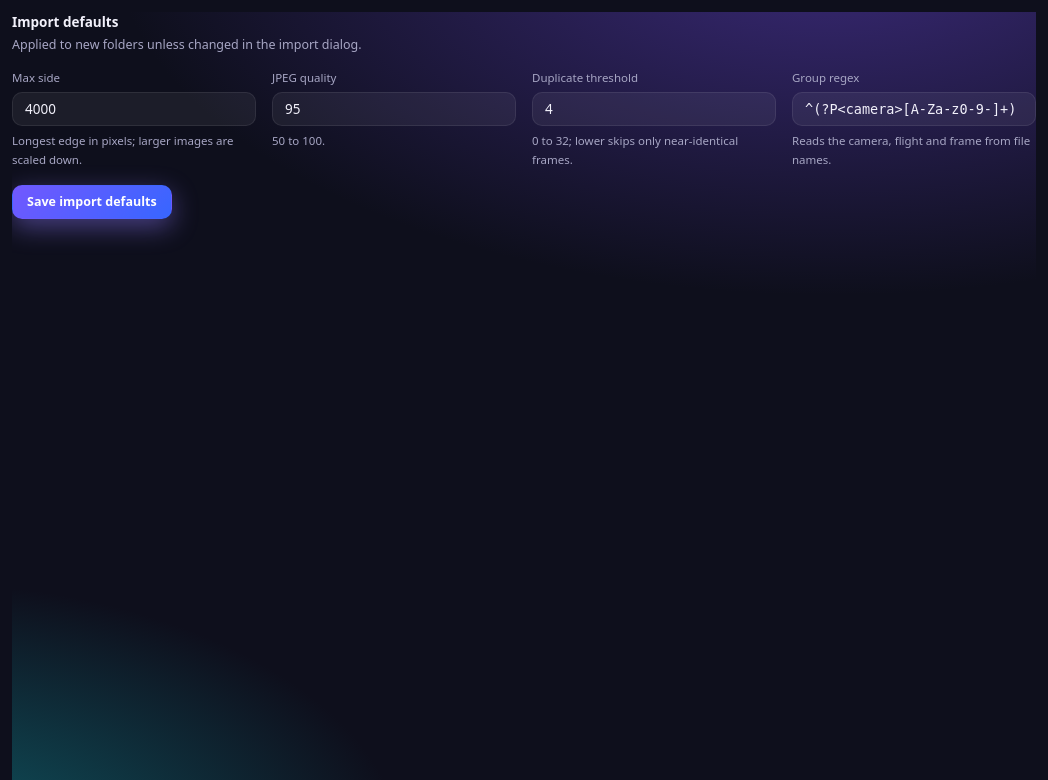
Test: ImportDefaultsSection › refuses to save an emptied number field
Clear the number field labelled "JPEG quality" at (394, 109), box [272,92,516,126]
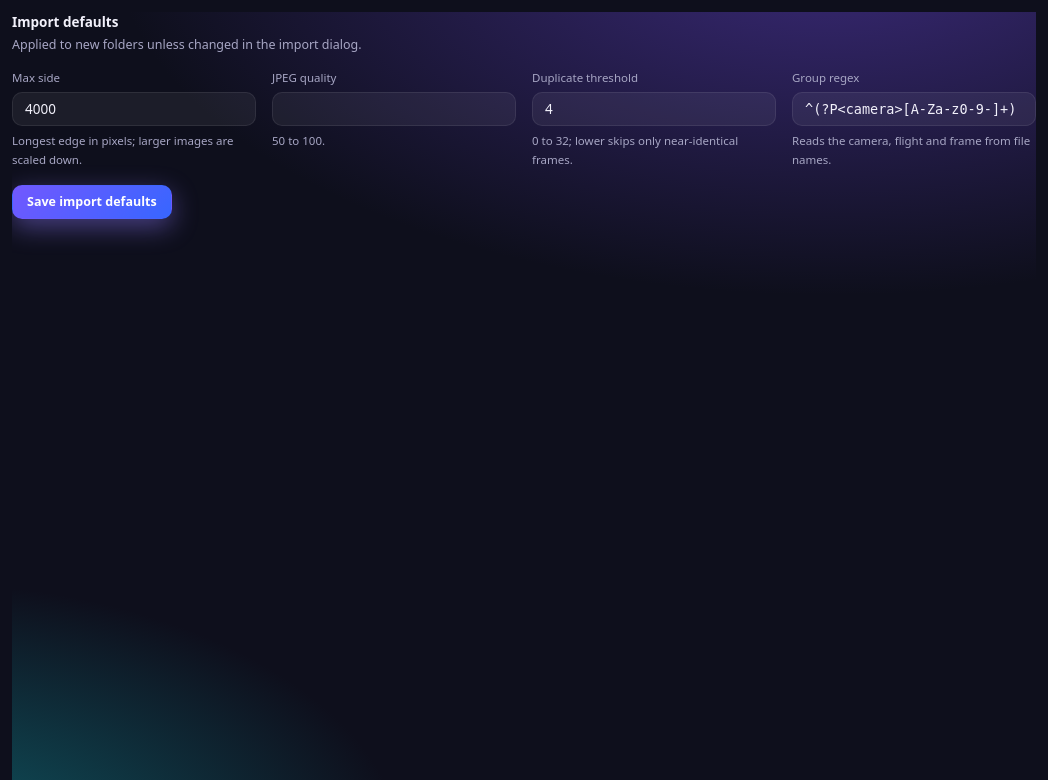
Submit the form from the button "Save import defaults", box [12,185,172,219]
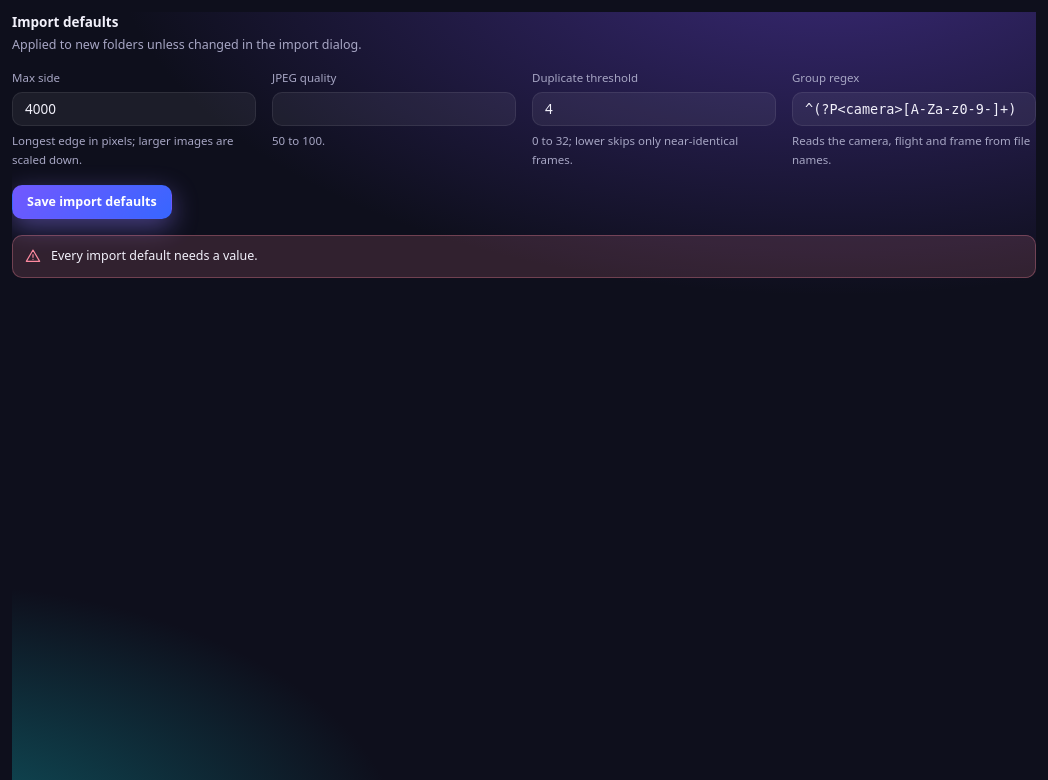
Now the message reads "Every import default needs a value.", box [51,247,258,264]
